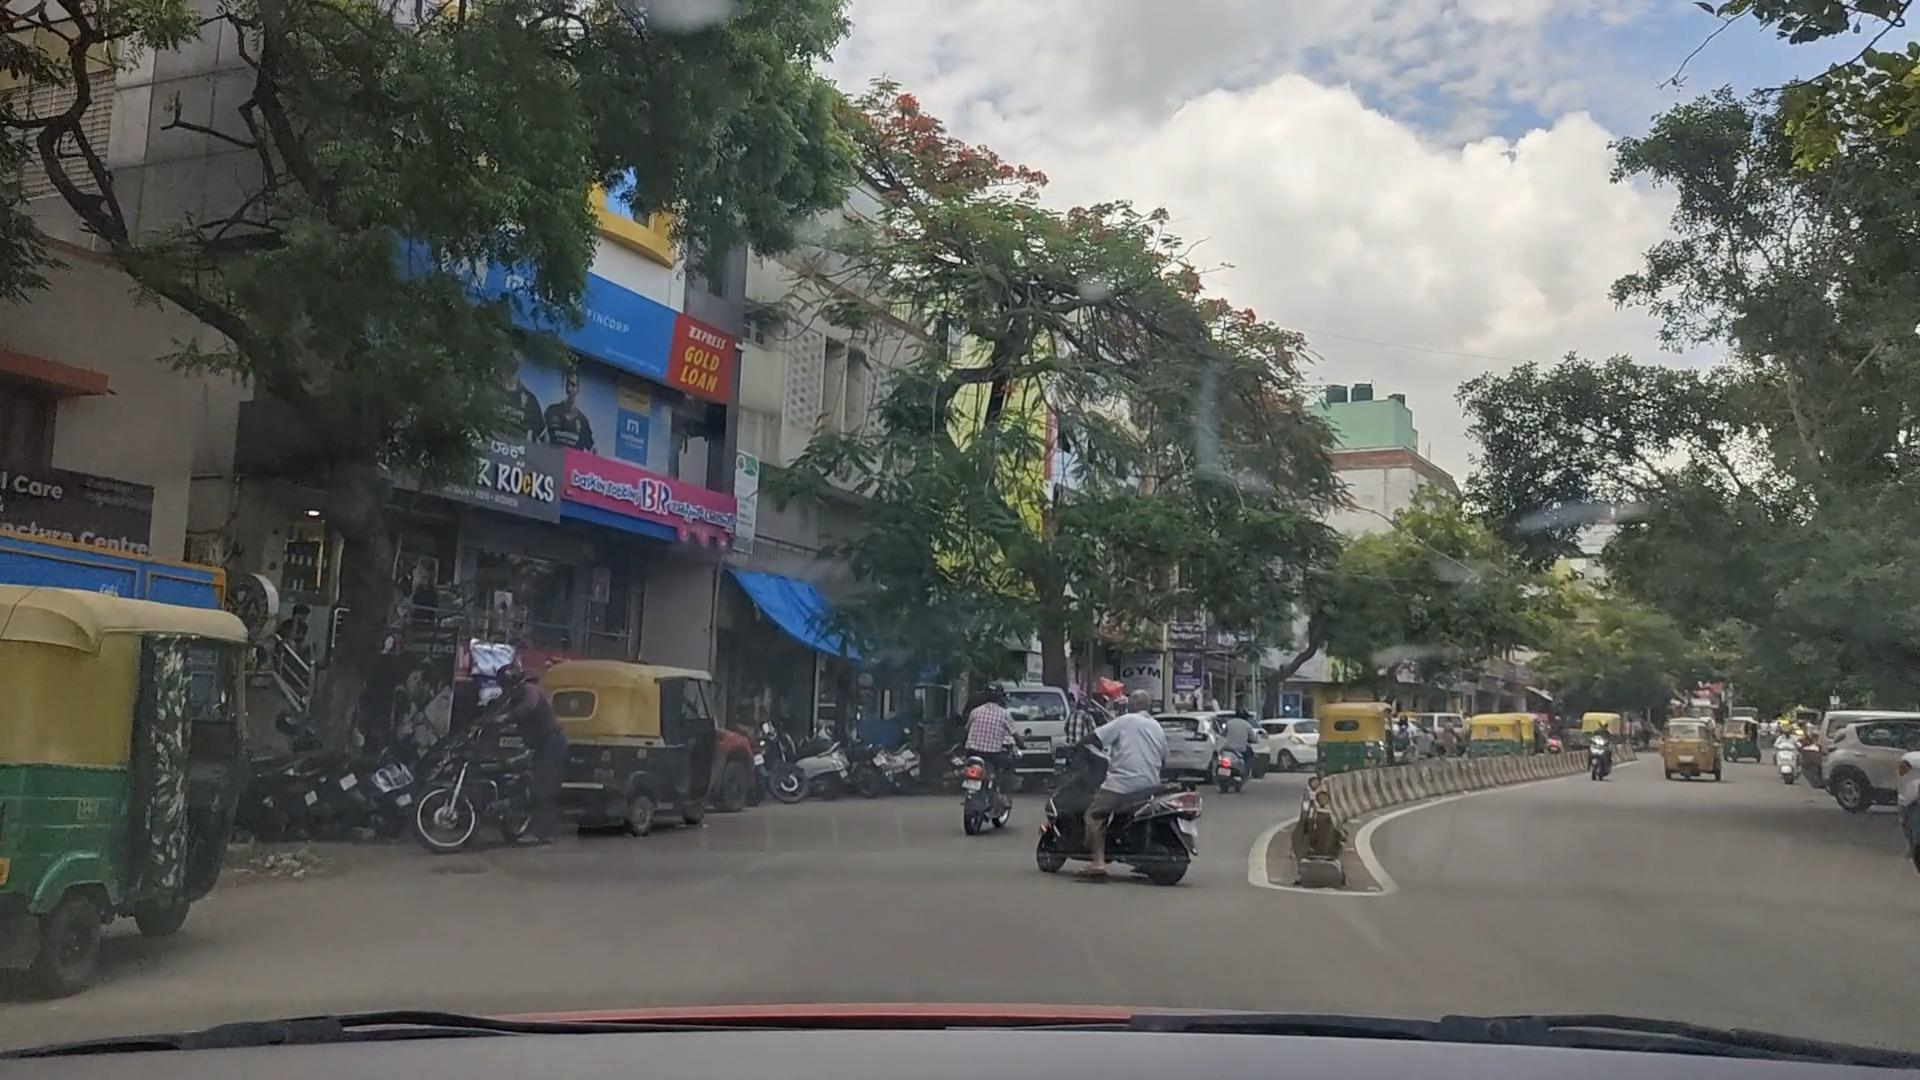LMV: (20, 613, 251, 946), (556, 633, 711, 832), (1066, 698, 1195, 908), (426, 660, 567, 850), (936, 670, 1035, 852)
